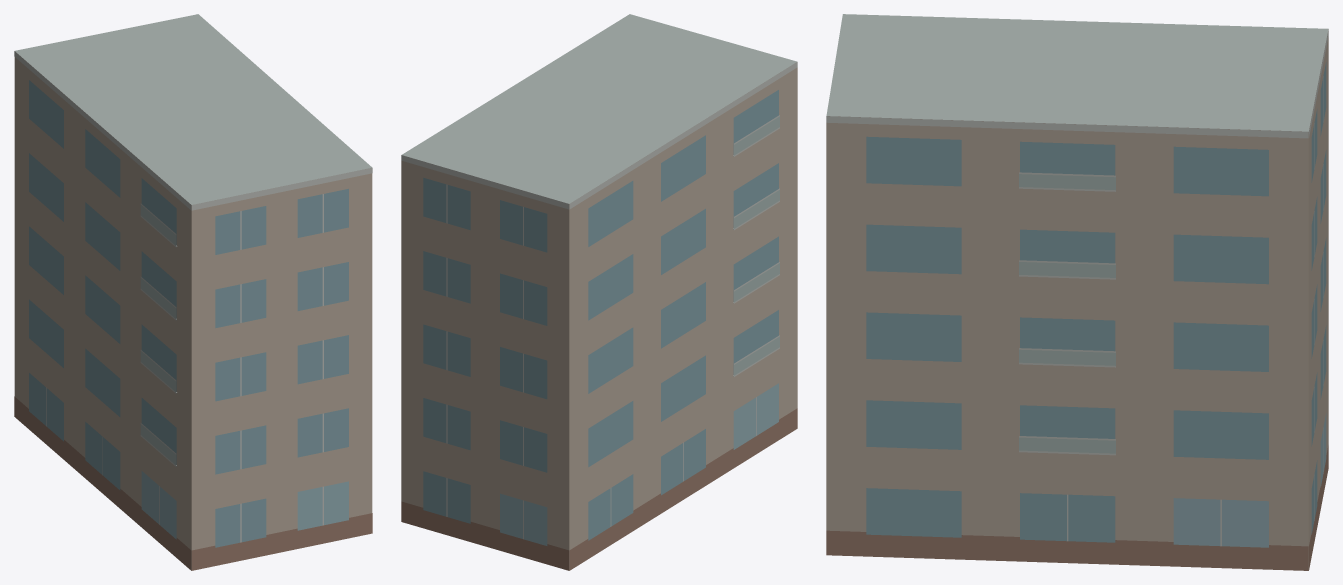
Rendered from survey-upis-32753212.glb.
The picture shows the model from 3 angles, left to right: view 1: azimuth 30°, elevation 25°; view 2: azimuth 150°, elevation 25°; view 3: azimuth 270°, elevation 25°; orthographic projection. The views are drawn at different scales.
Parts seen in each view (by area): view 1: survey-upis-32753212.tmp; view 2: survey-upis-32753212.tmp; view 3: survey-upis-32753212.tmp.
Part boxes in pixels (left/top/right/bottom): survey-upis-32753212.tmp: left=14, top=14, right=372, bottom=570; survey-upis-32753212.tmp: left=401, top=14, right=797, bottom=570; survey-upis-32753212.tmp: left=826, top=14, right=1328, bottom=570.
Bounding box in the file's own units: 9.09 × 15.8 × 16.38.
